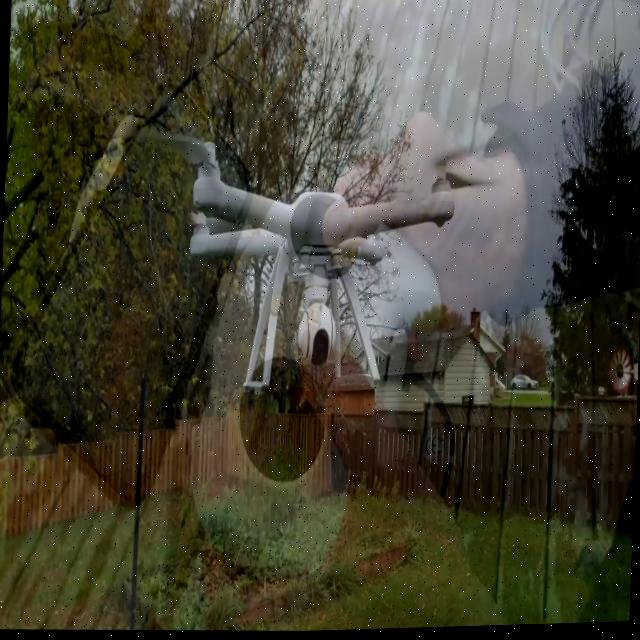drone: (136, 80, 503, 429)
